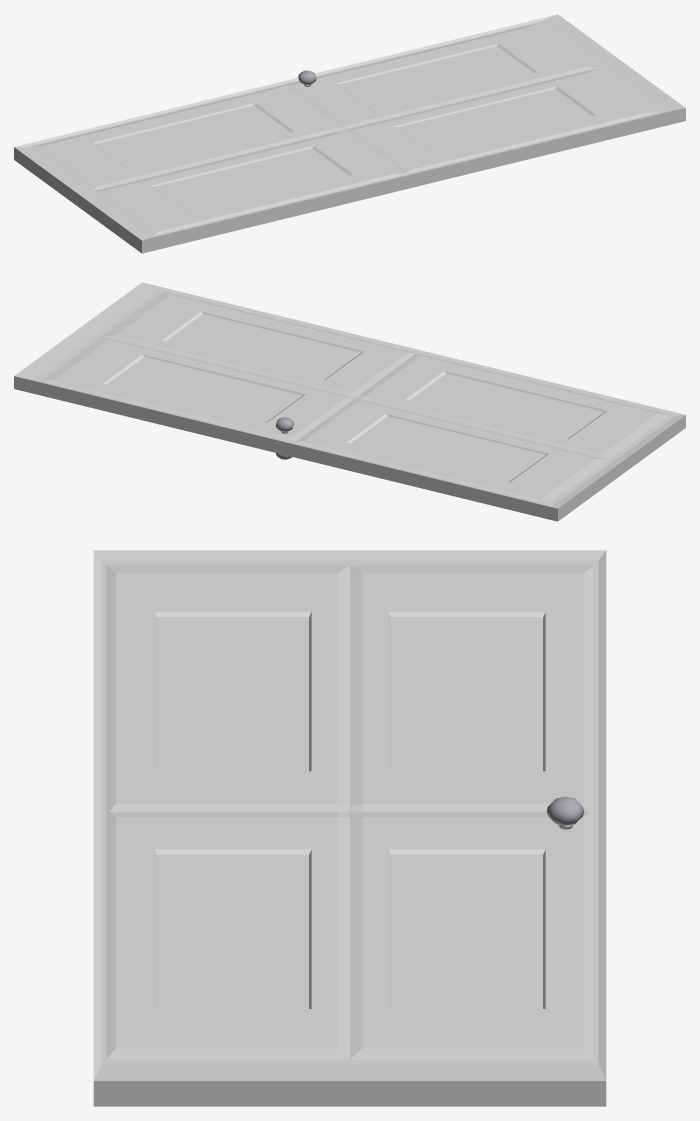
Rendered from Door.fbx.
3 views of the same model, one above another, from view 1: azimuth 30°, elevation 25°; view 2: azimuth 150°, elevation 25°; view 3: azimuth 270°, elevation 25° (orthographic). The views are drawn at different scales.
Visible parts, largest first — view 1: Plane.001; view 2: Plane.001; view 3: Plane.001, Plane.007.
Boxes of the visible parts, box(x1,y1,x2,y2) form: Plane.001: box(14, 14, 685, 253); Plane.001: box(14, 282, 685, 521); Plane.001: box(93, 550, 606, 1106); Plane.007: box(546, 796, 584, 825).
Bounding box in the file's own units: 490 × 34.75 × 200.
2 materials, 2 textured.
